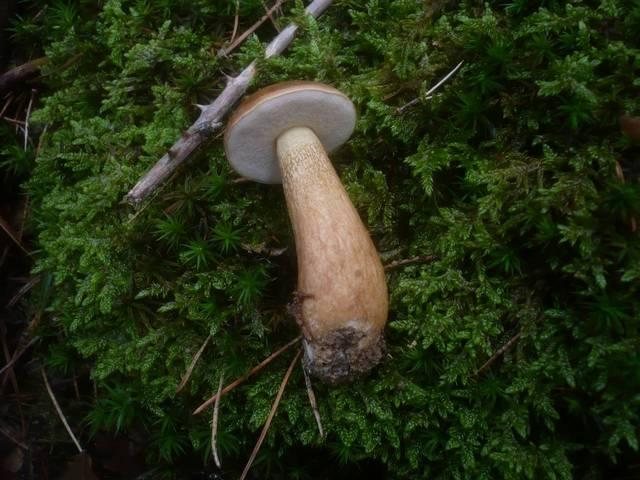poisonous_mushroom: (221, 78, 391, 385)
